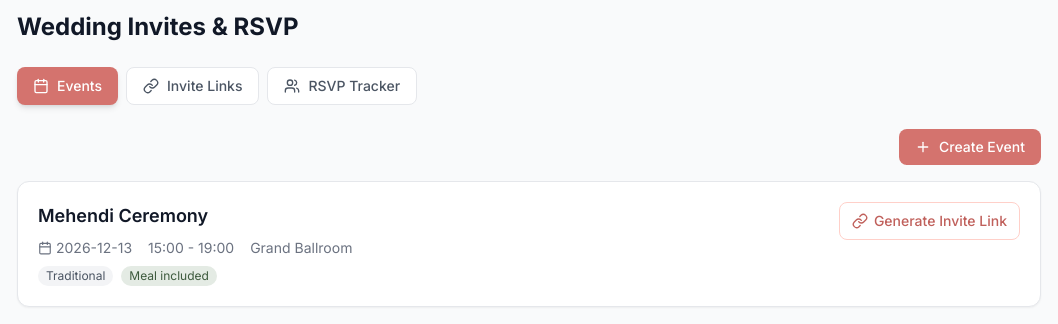
Test: WeddingInvites Screen › switching to Invite Links tab shows invites section
Click the button "Invite Links": coordinates (193, 86) [126,67,259,105]
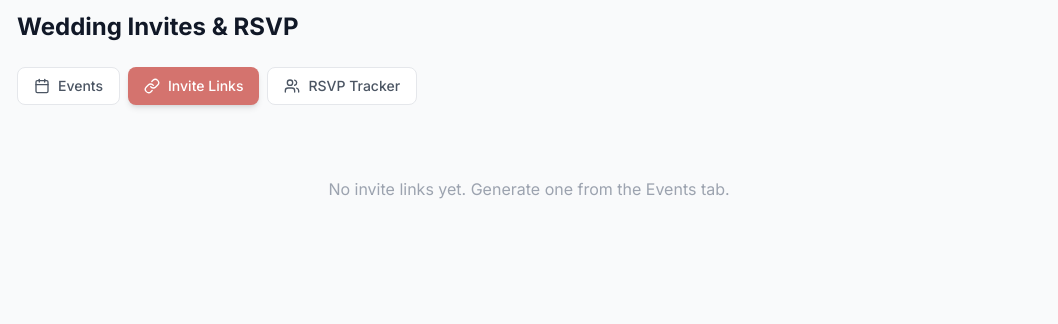
Expected: the text "No invite links yet. Generate one from the Events tab." is shown, [328,179,730,199]
